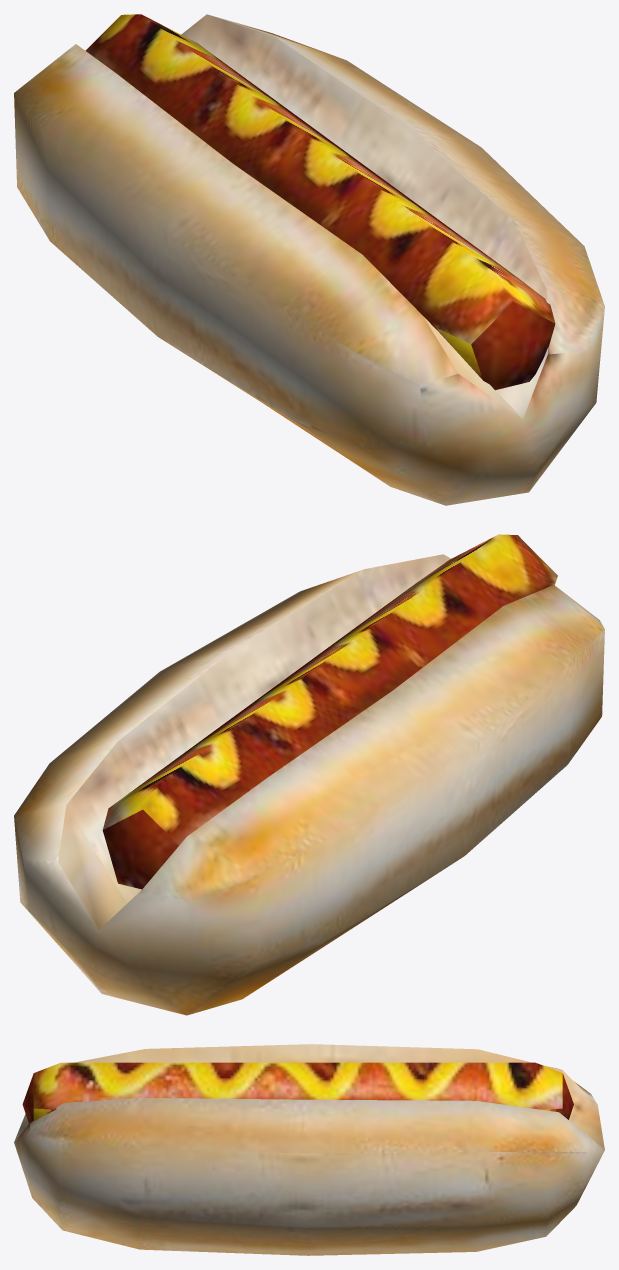
The model's file is Hot_dog.glb.
3 views of the same model, one above another, from view 1: azimuth 30°, elevation 25°; view 2: azimuth 150°, elevation 25°; view 3: azimuth 270°, elevation 25° (orthographic). The views are drawn at different scales.
Visible parts, largest first — view 1: Hot_dog; view 2: Hot_dog; view 3: Hot_dog.
Part boxes in pixels (x1,y1,x2,y2): Hot_dog: (14,14,604,505); Hot_dog: (14,534,604,1015); Hot_dog: (14,1044,604,1255).
Bounding box in the file's own units: 0.0949 × 0.0711 × 0.2206.
1 material, 1 textured.
